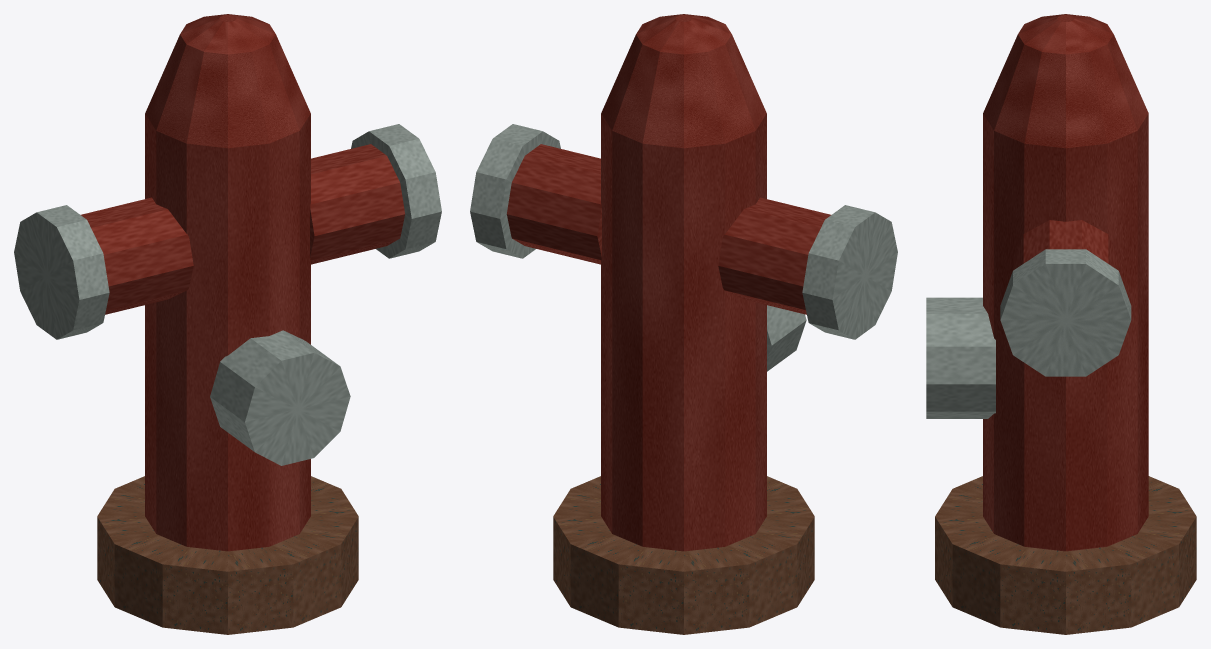
File: Hydrant.obj
The picture shows the model from 3 angles, left to right: view 1: azimuth 30°, elevation 25°; view 2: azimuth 150°, elevation 25°; view 3: azimuth 270°, elevation 25°; orthographic projection.
Visible parts, largest first — view 1: Hydrant; view 2: Hydrant; view 3: Hydrant.
Boxes of the visible parts, x1,y1,x2,y2 form: Hydrant: [14, 14, 441, 634]; Hydrant: [470, 14, 897, 634]; Hydrant: [926, 14, 1196, 634].
Size of the model in its own units: 0.48 by 0.71 by 0.31.
Materials: 3 (3 with a texture image).
